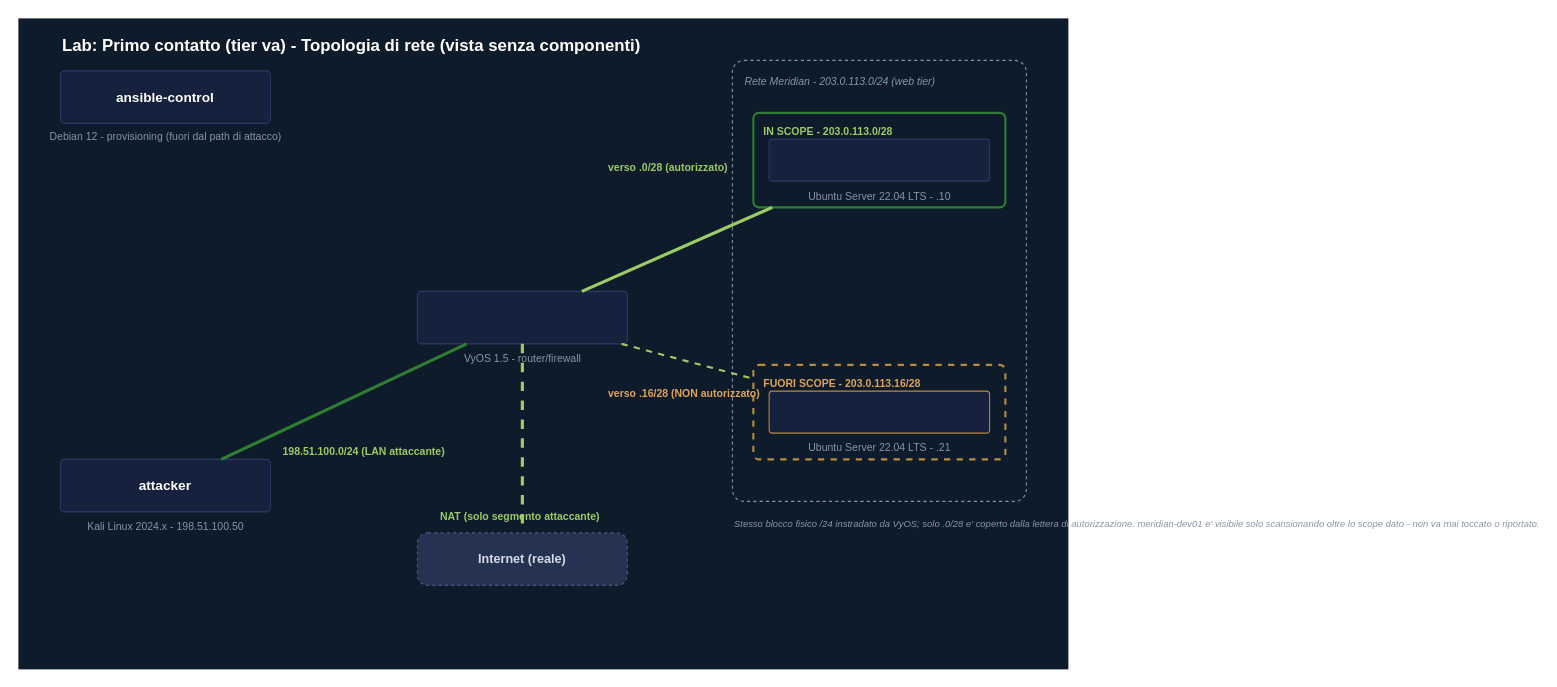
This 1557x687 diagram has some shape labels left out. Here are the shapes that lost their labels. From the top down, the centre of each, then its label:
At pixel 879 159: "meridian-web01".
At pixel 521 317: "router".
At pixel 879 411: "meridian-dev01".
